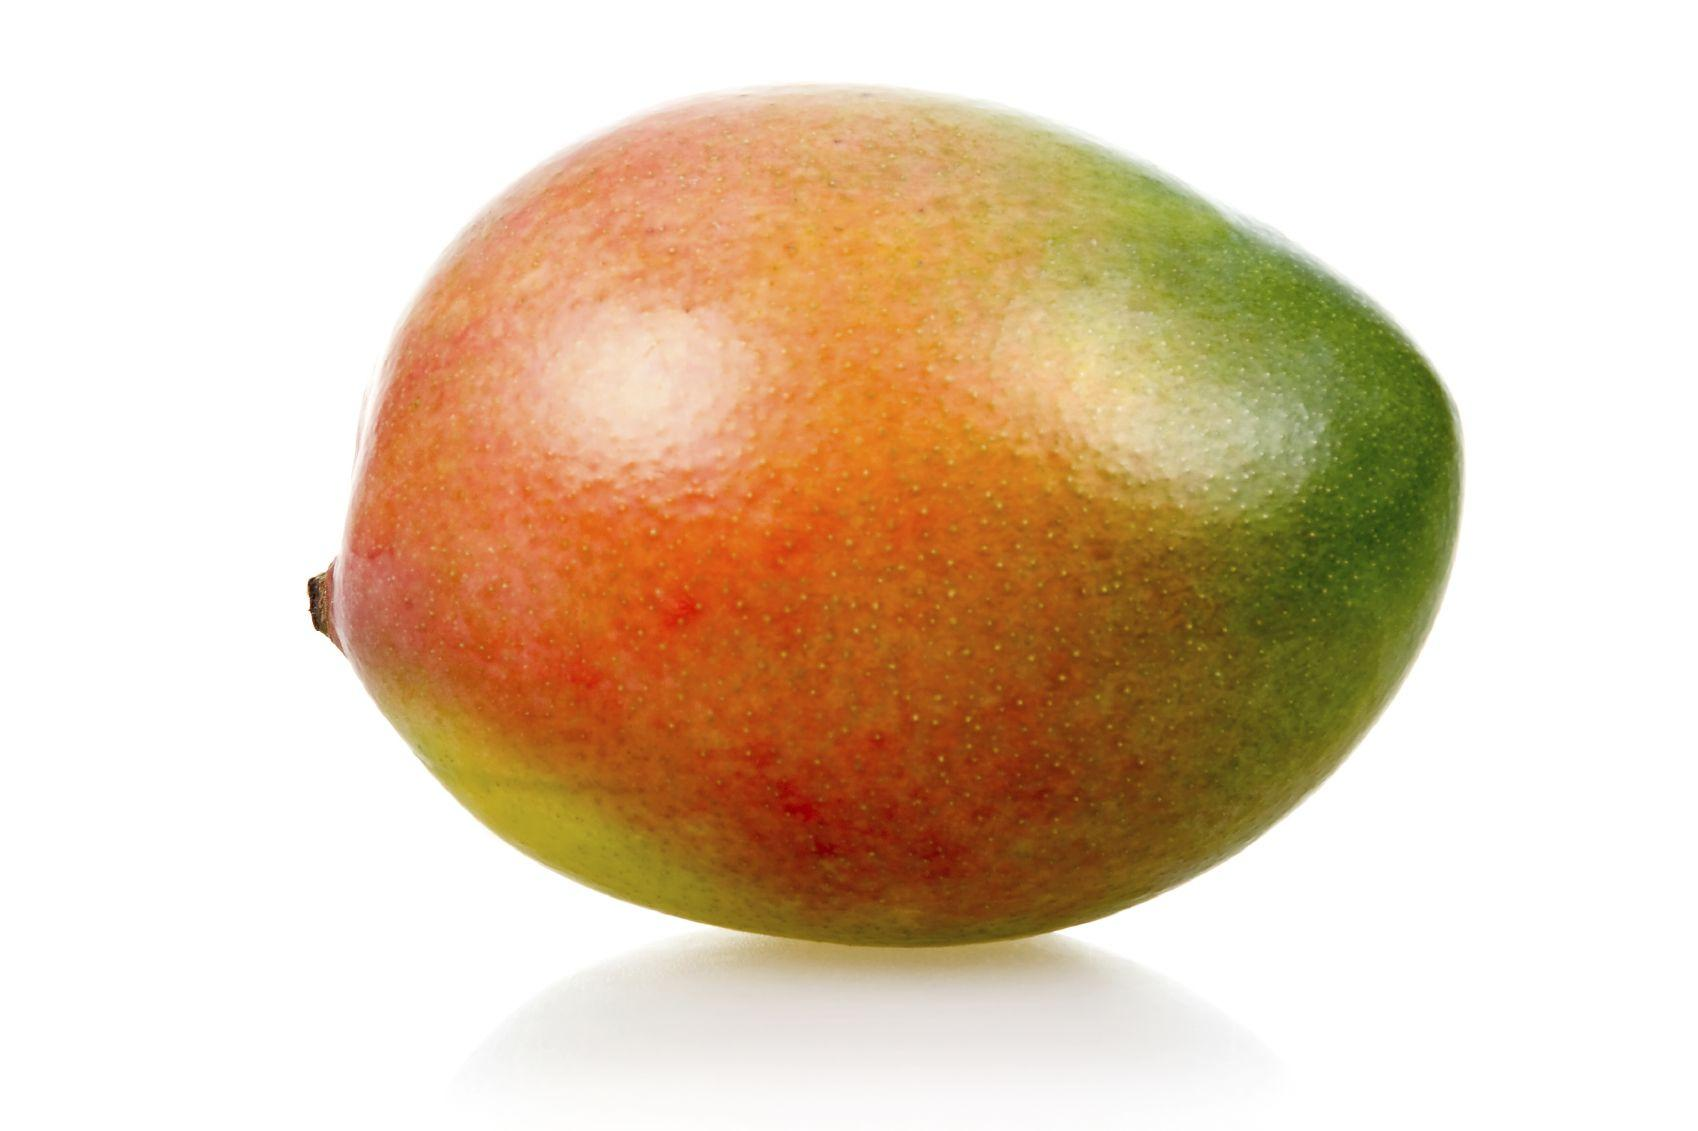Mango: (287, 45, 1517, 1014)
